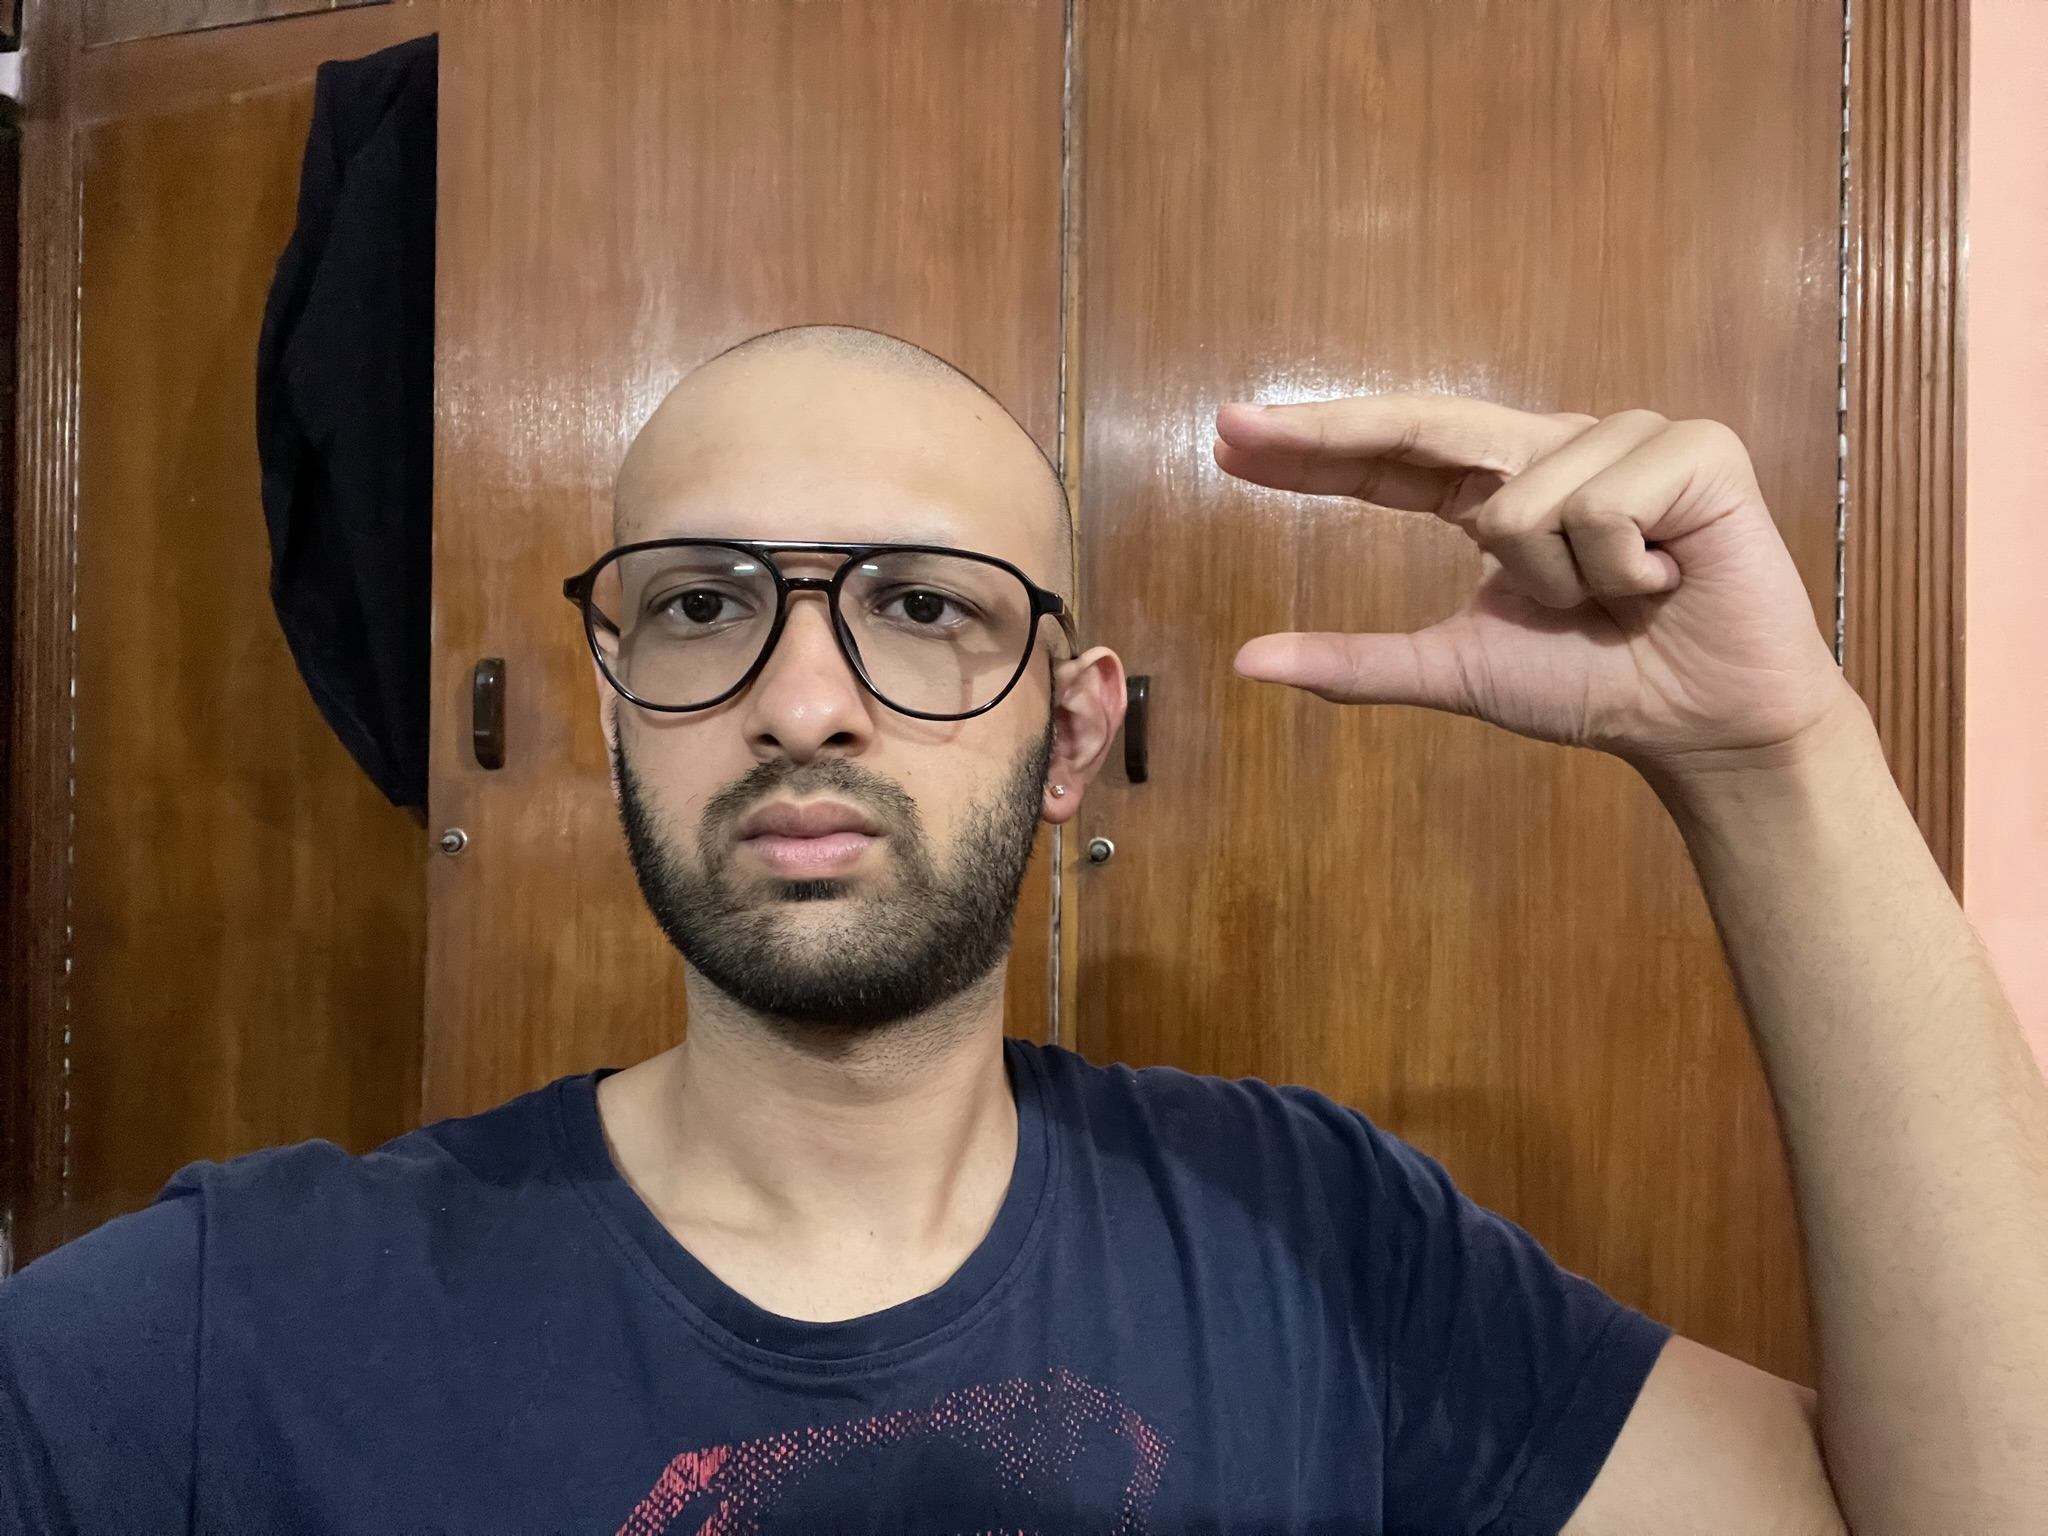No: (1206, 386, 1822, 768)
